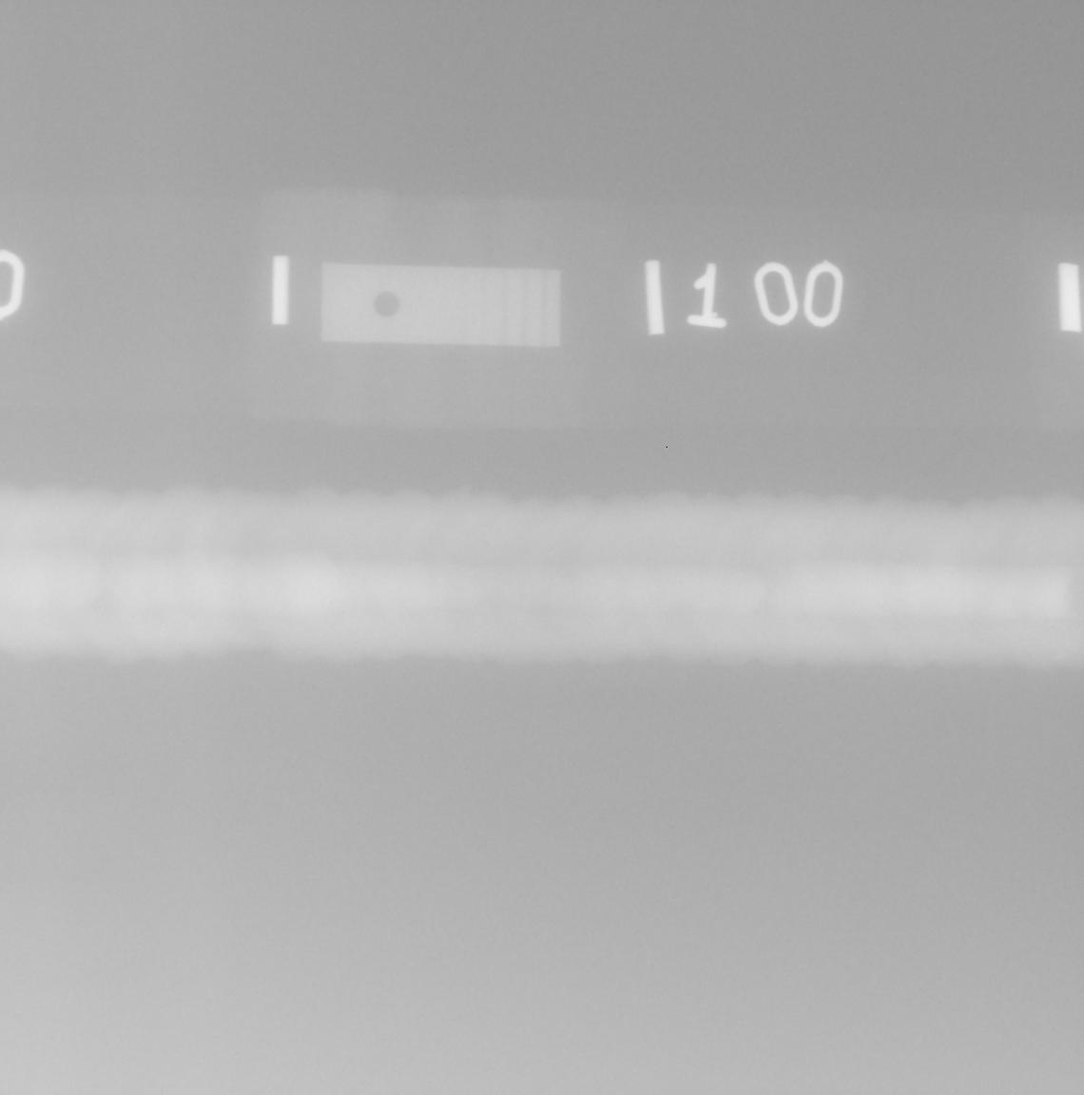Pore/Porosity: (679, 580, 683, 584)
Reference Standard 1: (321, 263, 560, 347)
